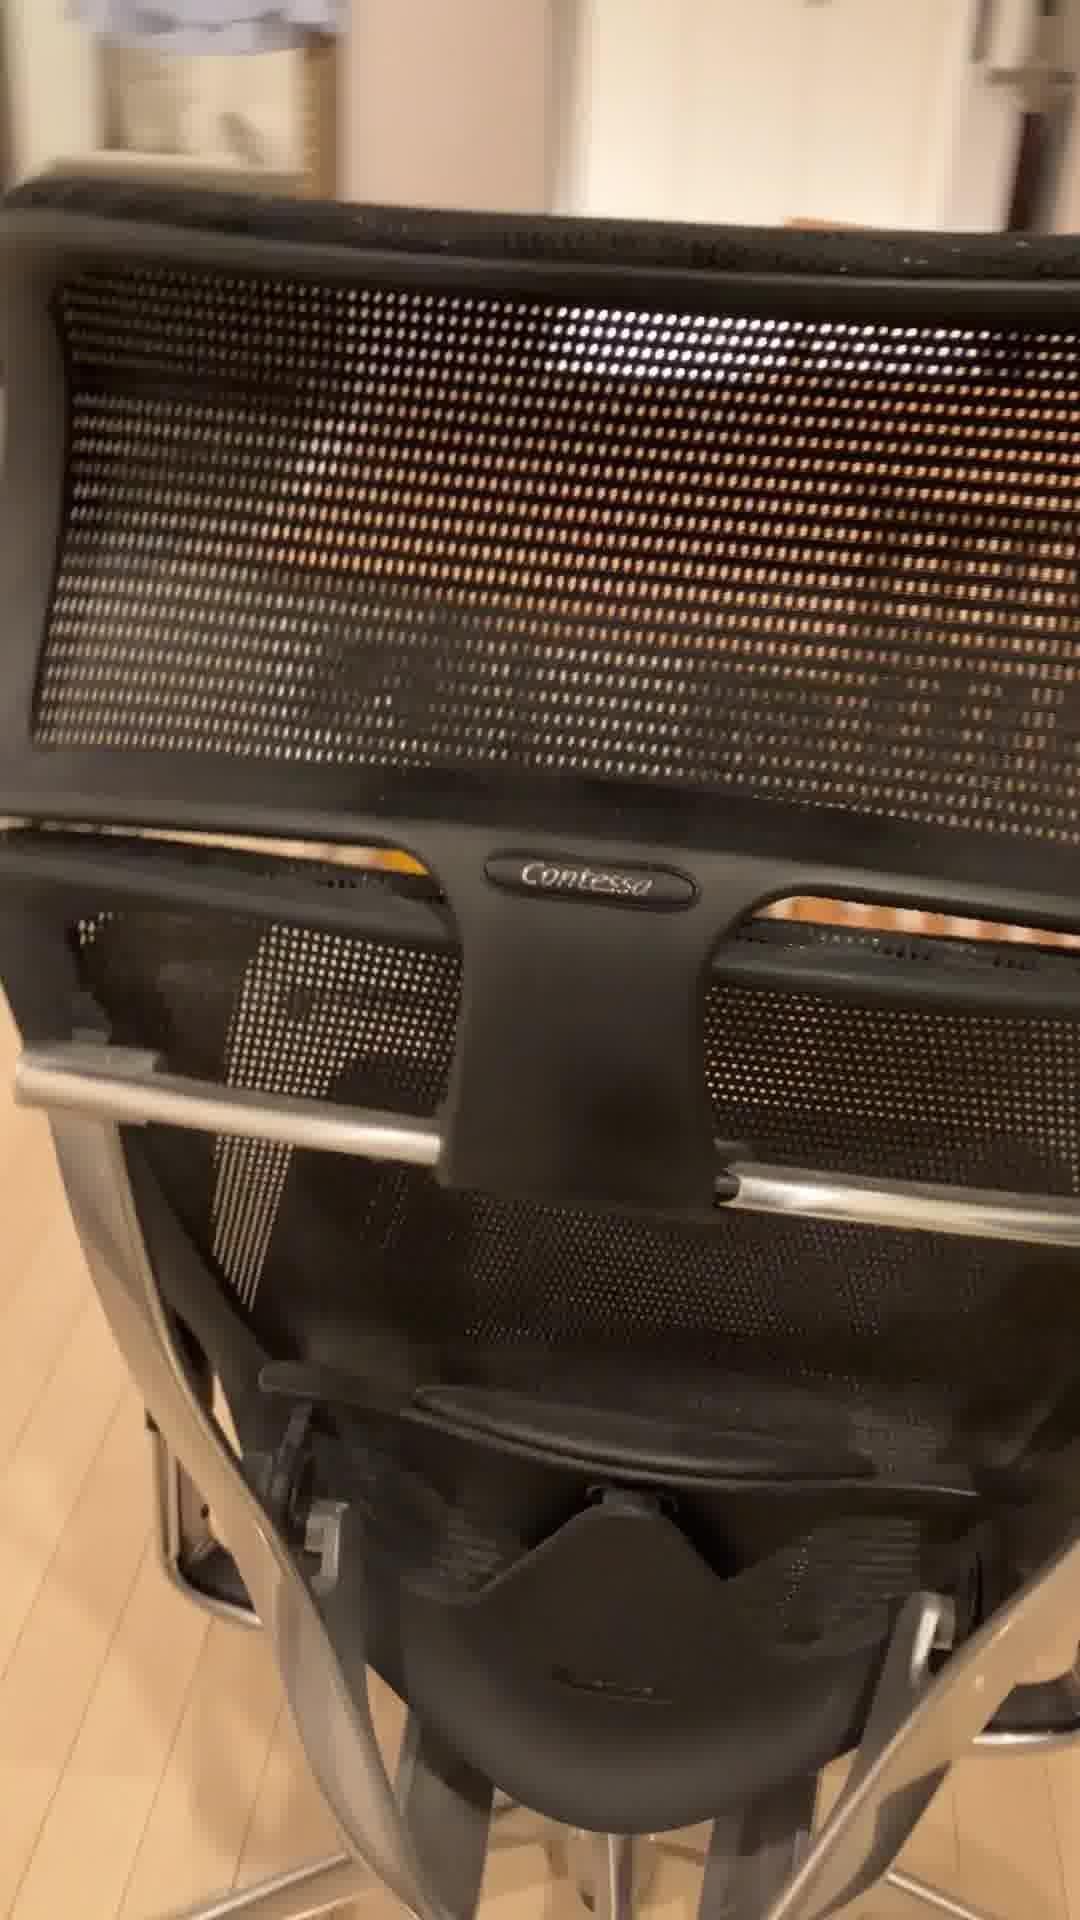okamura-contessa: (0, 170, 1080, 1920)
